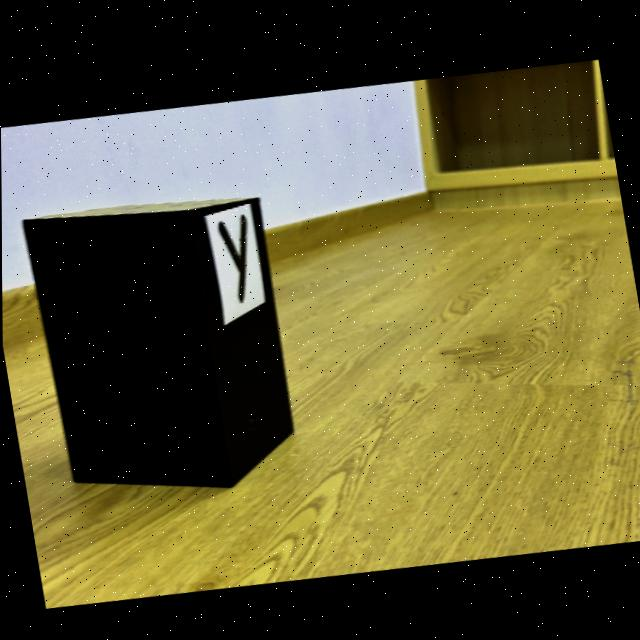Y: (218, 213, 247, 300)
